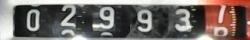digits: (212, 2, 231, 40), (92, 6, 114, 30), (174, 8, 193, 31), (136, 9, 153, 32), (60, 4, 76, 27), (26, 9, 40, 31)
